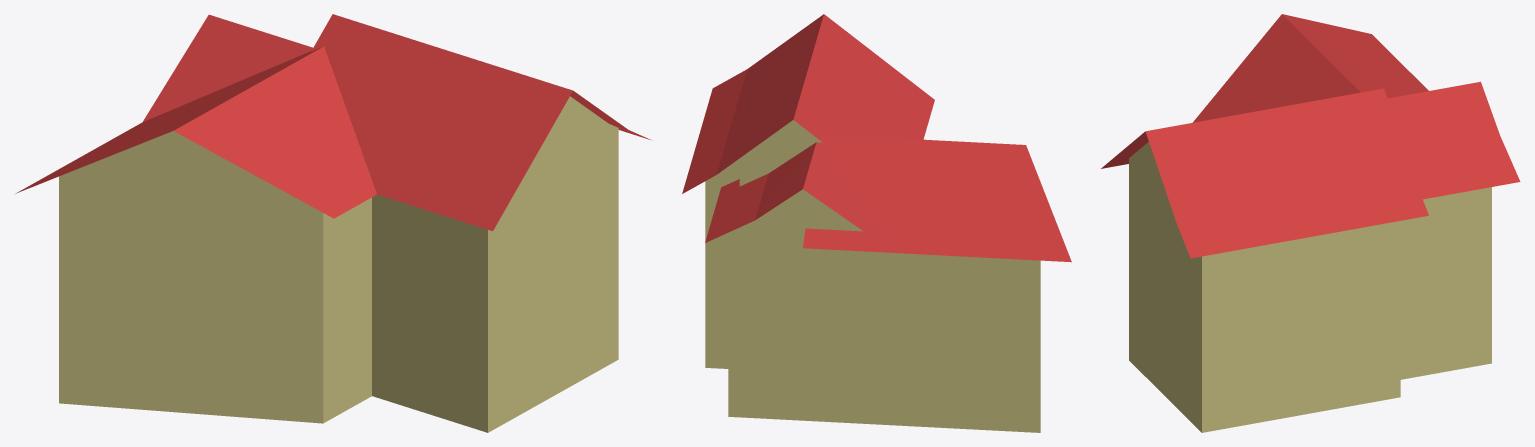
3 views of the same model, side by side, from view 1: azimuth 30°, elevation 25°; view 2: azimuth 150°, elevation 25°; view 3: azimuth 270°, elevation 25° (orthographic). The views are drawn at different scales.
Size of the model in its own units: 24.55 by 19.41 by 13.71.
